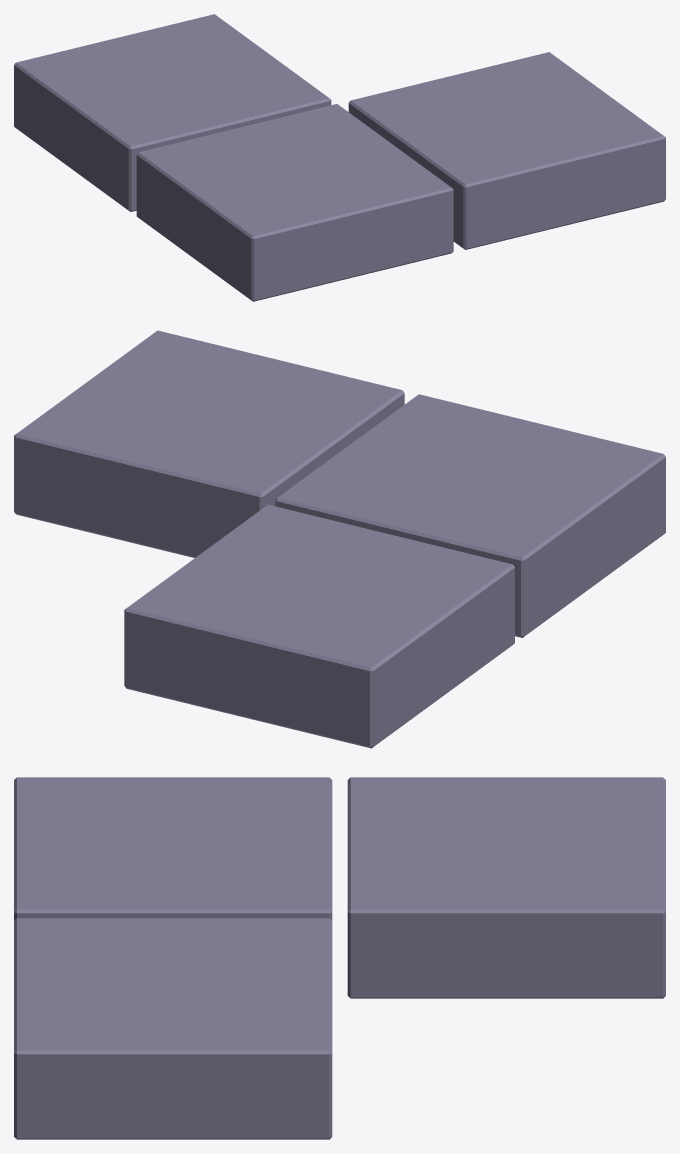
File: ruin_floor_piece_01.glb
3 views of the same model, one above another, from view 1: azimuth 30°, elevation 25°; view 2: azimuth 150°, elevation 25°; view 3: azimuth 270°, elevation 25° (orthographic). The views are drawn at different scales.
Visible parts, largest first — view 1: ruin_floor_piece_01; view 2: ruin_floor_piece_01; view 3: ruin_floor_piece_01.
Boxes of the visible parts, bbox=[...] form: ruin_floor_piece_01: bbox=[14, 14, 665, 301]; ruin_floor_piece_01: bbox=[14, 330, 665, 748]; ruin_floor_piece_01: bbox=[14, 777, 665, 1139].
Size of the model in its own units: 0.86 by 0.13 by 0.86.
